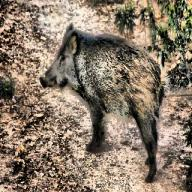boar: (39, 22, 168, 182)
